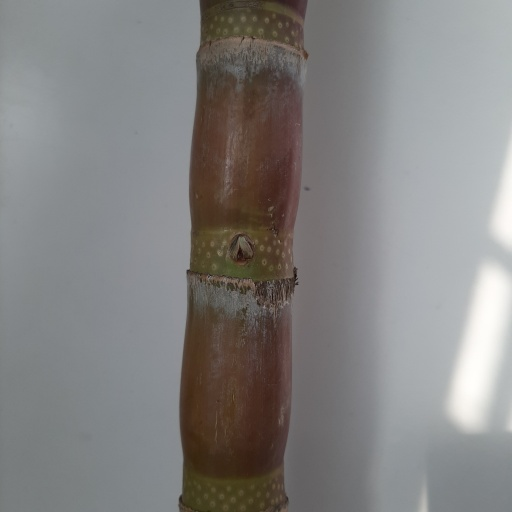Bud: (229, 235, 252, 266)
